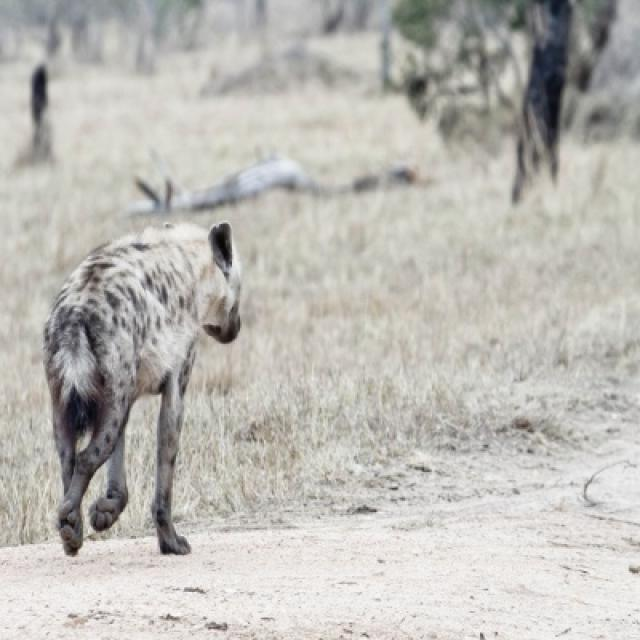hyena: (42, 222, 243, 558)
